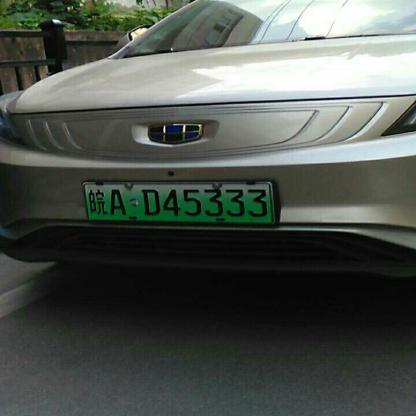lp: (82, 182, 273, 222)
